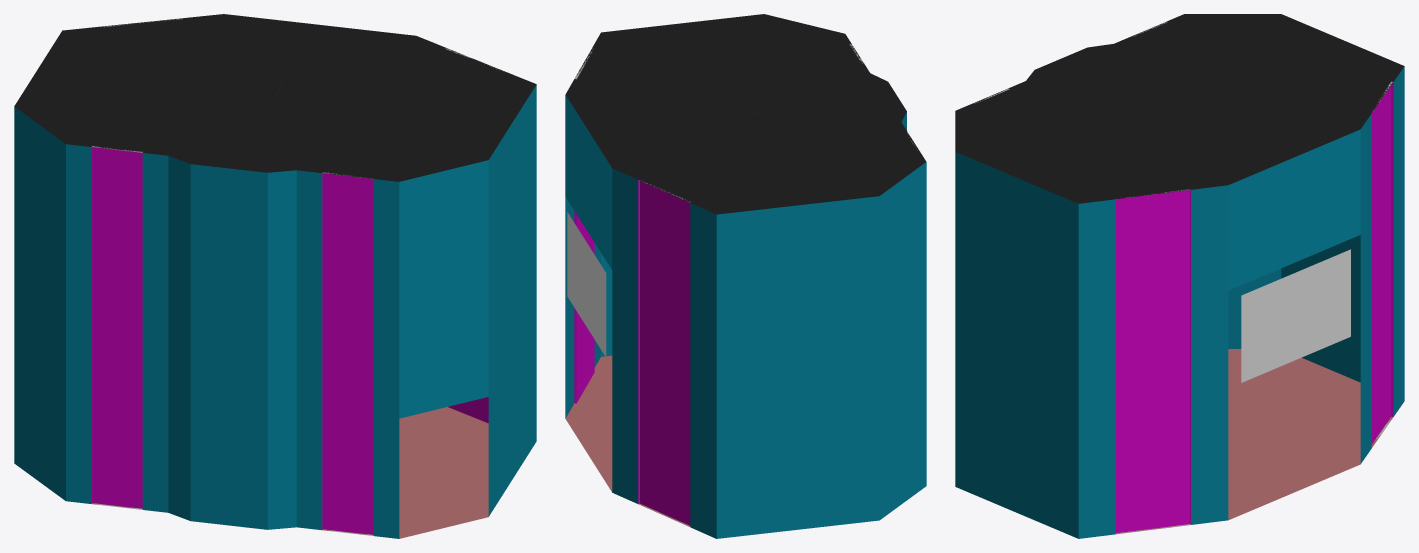
File: Hall_V1.2.fbx
3 renders of one model, left to right at view 1: azimuth 30°, elevation 25°; view 2: azimuth 150°, elevation 25°; view 3: azimuth 270°, elevation 25°, orthographic. The views are drawn at different scales.
Parts seen in each view (by area): view 1: Hall4; view 2: Hall4; view 3: Hall4.
Boxes of the visible parts, x1=… form: Hall4: x1=14, y1=14, x2=536, y2=538; Hall4: x1=565, y1=14, x2=926, y2=538; Hall4: x1=955, y1=14, x2=1404, y2=538.
Size of the model in its own units: 1803 by 1484 by 1803.
